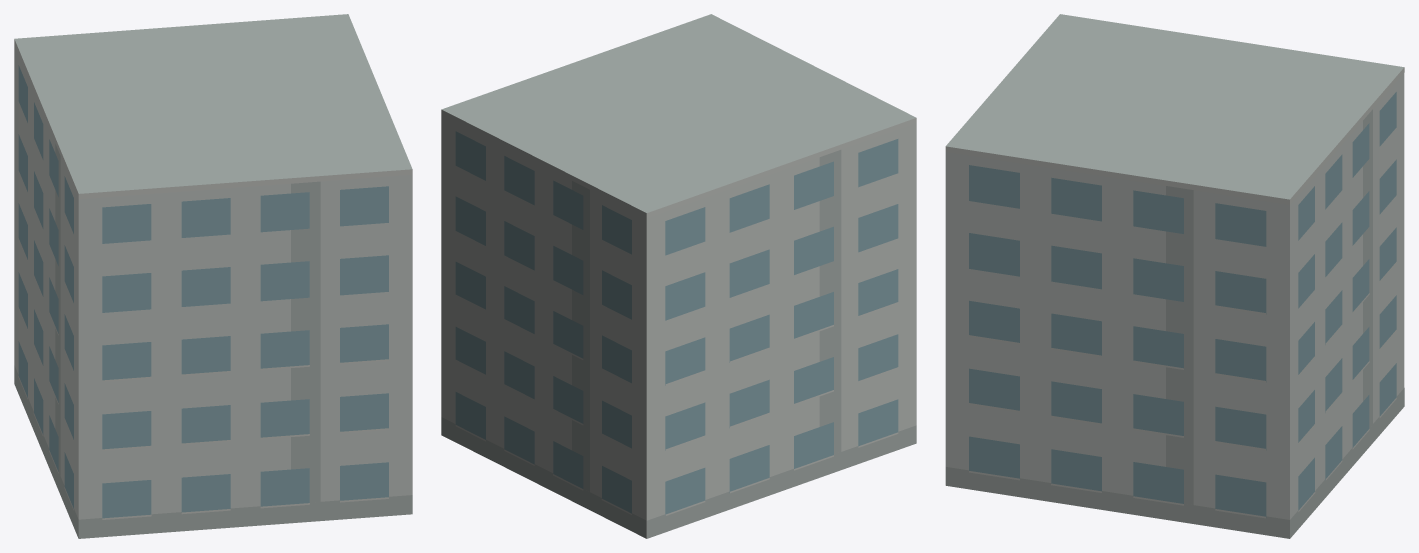
Rendered from residential-5a7c443b-44bc-40b3-9078-19dee1eedb4b.glb.
The picture shows the model from 3 angles, left to right: view 1: azimuth 30°, elevation 25°; view 2: azimuth 150°, elevation 25°; view 3: azimuth 270°, elevation 25°; orthographic projection. The views are drawn at different scales.
Parts seen in each view (by area): view 1: residential-5a7c443b-44bc-40b3-9078-19dee1eedb4b.tmp; view 2: residential-5a7c443b-44bc-40b3-9078-19dee1eedb4b.tmp; view 3: residential-5a7c443b-44bc-40b3-9078-19dee1eedb4b.tmp.
Part boxes in pixels (x1,y1,x2,y2): residential-5a7c443b-44bc-40b3-9078-19dee1eedb4b.tmp: (14,14,412,538); residential-5a7c443b-44bc-40b3-9078-19dee1eedb4b.tmp: (441,14,916,538); residential-5a7c443b-44bc-40b3-9078-19dee1eedb4b.tmp: (945,14,1404,538).
Bounding box in the file's own units: 17.89 × 15.25 × 18.7.
